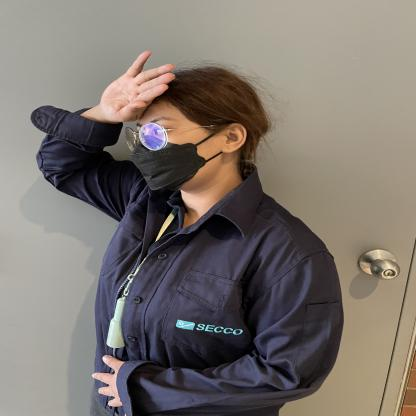Sick: (36, 26, 193, 132)
